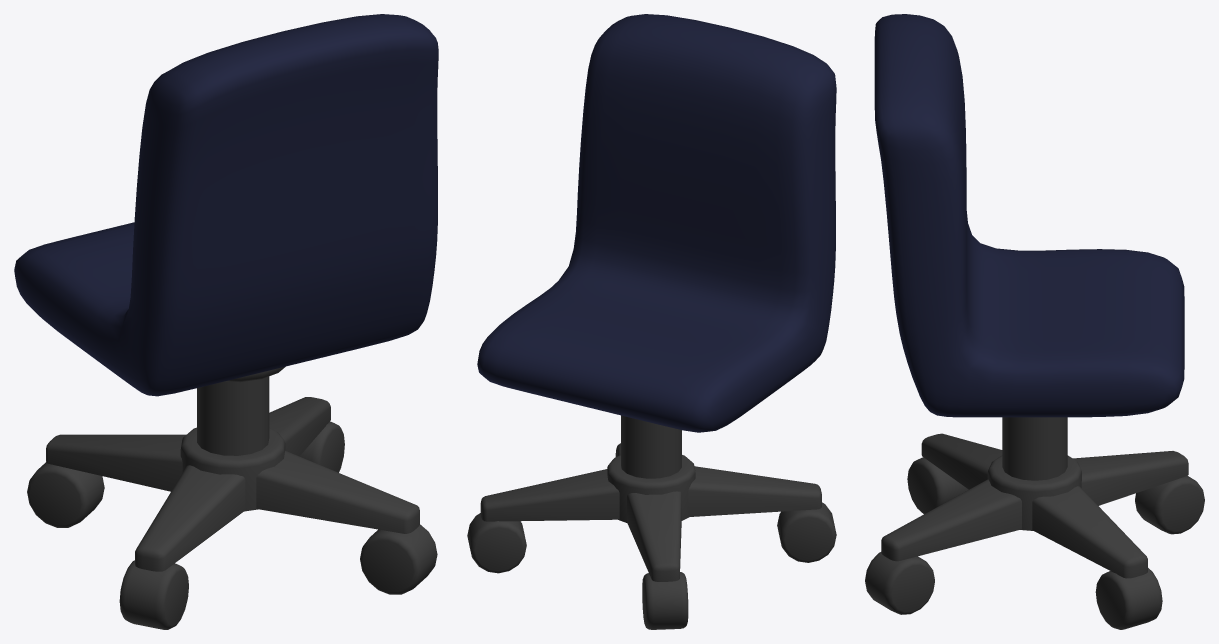
File: Chair.fbx
The picture shows the model from 3 angles, left to right: view 1: azimuth 30°, elevation 25°; view 2: azimuth 150°, elevation 25°; view 3: azimuth 270°, elevation 25°; orthographic projection. The views are drawn at different scales.
Visible parts, largest first — view 1: chair_h.004; view 2: chair_h.004; view 3: chair_h.004.
Part boxes in pixels (<box>): chair_h.004: <box>14,14,438,629</box>; chair_h.004: <box>467,14,836,629</box>; chair_h.004: <box>865,14,1204,629</box>.
Size of the model in its own units: 67.27 by 67.27 by 112.
